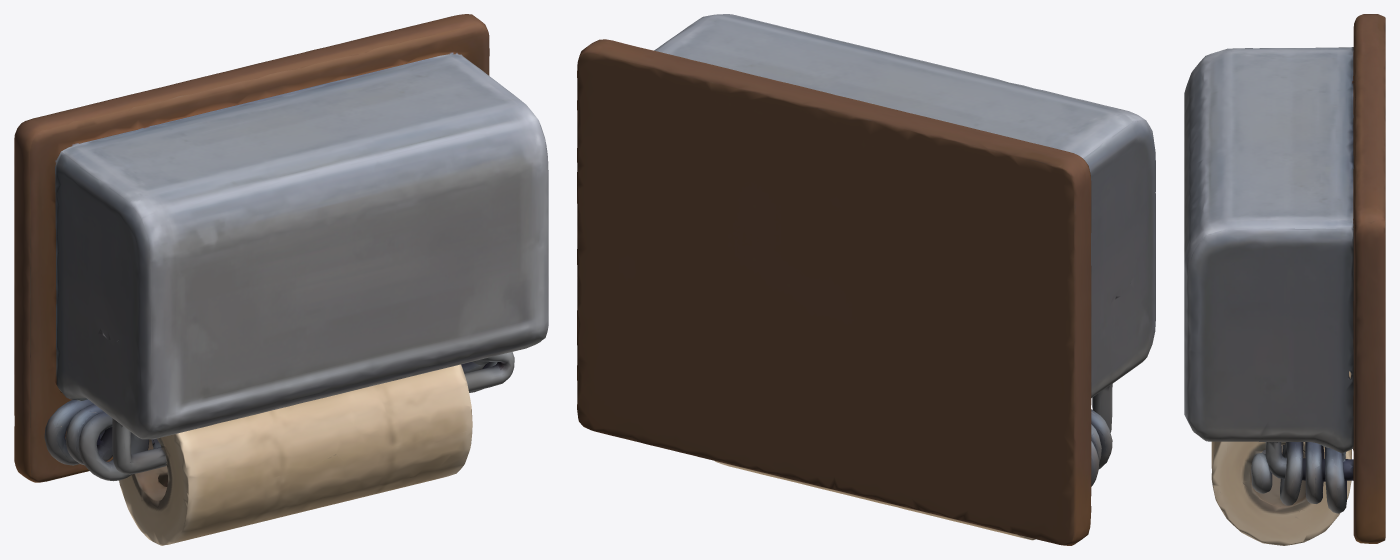
Rendered from universitytoilet_ToiletPaperDispenser.glb.
3 renders of one model, left to right at view 1: azimuth 30°, elevation 25°; view 2: azimuth 150°, elevation 25°; view 3: azimuth 270°, elevation 25°, orthographic. The views are drawn at different scales.
Visible parts, largest first — view 1: world; view 2: world; view 3: world.
Boxes of the visible parts, x1,y1,x2,y2 form: world: (14,14,548,545); world: (577,14,1155,545); world: (1184,14,1385,545).
Bounding box in the file's own units: 1 × 0.8261 × 0.4048.
1 material, 1 textured.
